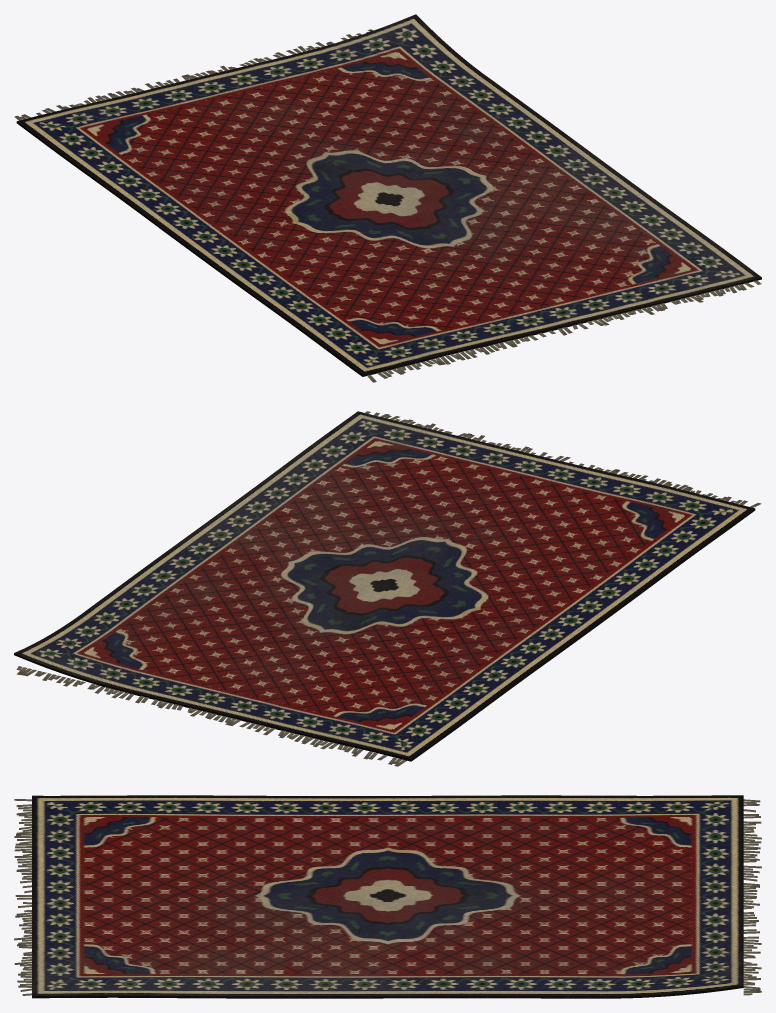
Rendered from carpet_floor_red_web.glb.
3 renders of one model, top to bottom at view 1: azimuth 30°, elevation 25°; view 2: azimuth 150°, elevation 25°; view 3: azimuth 270°, elevation 25°, orthographic. The views are drawn at different scales.
Visible parts, largest first — view 1: CarpetFloorRed_Body; view 2: CarpetFloorRed_Body; view 3: CarpetFloorRed_Body.
Boxes of the visible parts, bbox=[...] form: CarpetFloorRed_Body: bbox=[14, 14, 761, 382]; CarpetFloorRed_Body: bbox=[14, 411, 761, 766]; CarpetFloorRed_Body: bbox=[14, 795, 761, 998].
Bounding box in the file's own units: 2 × 0.06 × 3.15.
1 material, 1 textured.
